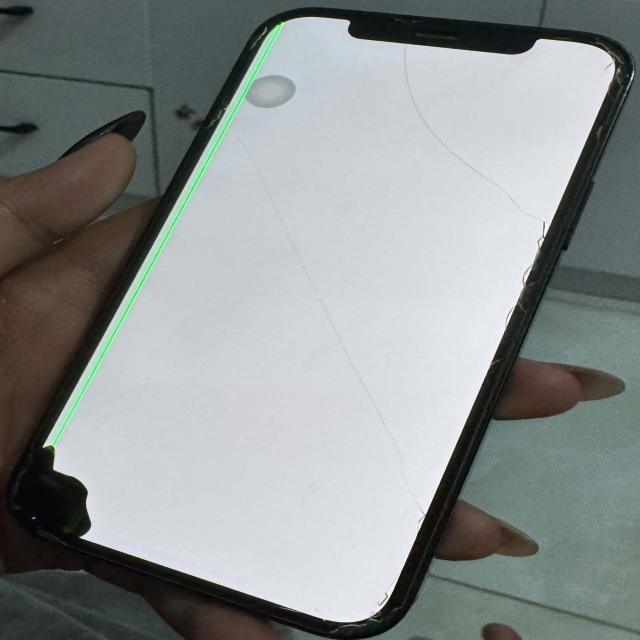screen_defect: (31, 7, 304, 459), (2, 439, 102, 553), (350, 378, 425, 511), (380, 39, 444, 150), (454, 154, 544, 223), (306, 288, 371, 372), (252, 196, 320, 262)
